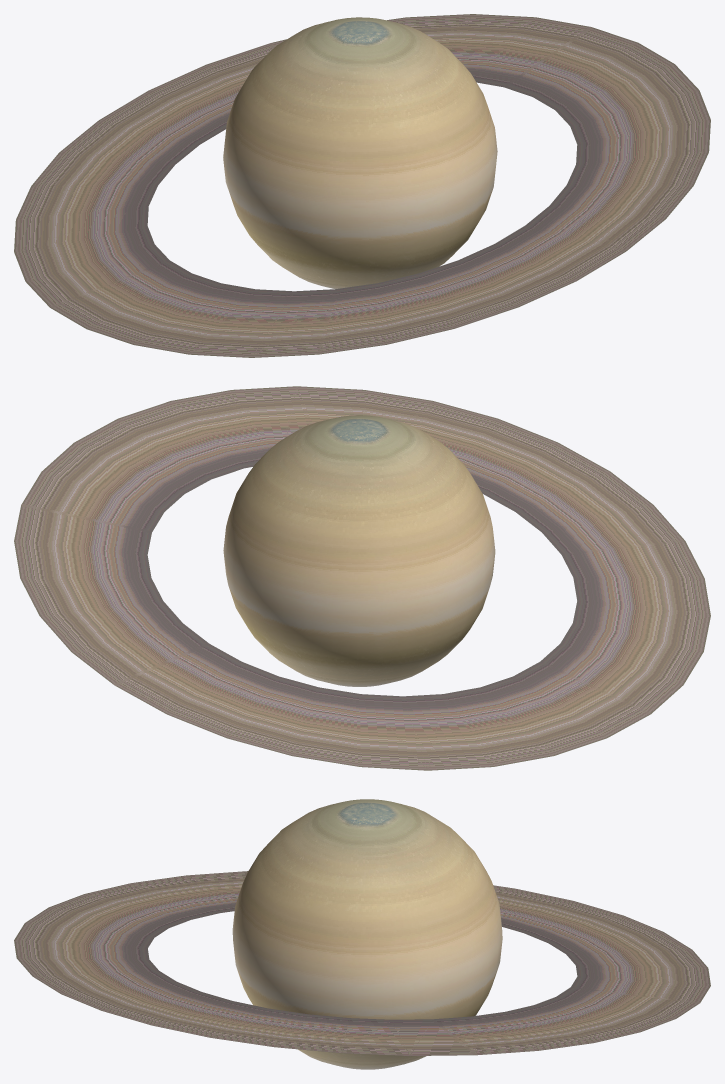
Rendered from saturn.glb.
The picture shows the model from 3 angles, top to bottom: view 1: azimuth 30°, elevation 25°; view 2: azimuth 150°, elevation 25°; view 3: azimuth 270°, elevation 25°; orthographic projection.
Visible parts, largest first — view 1: saturn_ring, 07_saturn; view 2: saturn_ring, 07_saturn; view 3: saturn_ring, 07_saturn.
Boxes of the visible parts, x1,y1,x2,y2 form: saturn_ring: (14, 14, 710, 357); 07_saturn: (223, 17, 497, 289); saturn_ring: (14, 386, 710, 770); 07_saturn: (223, 415, 495, 686); saturn_ring: (14, 871, 710, 1055); 07_saturn: (232, 799, 502, 1069).
Bounding box in the file's own units: 306 × 121 × 310.
Materials: 2 (2 with a texture image).
